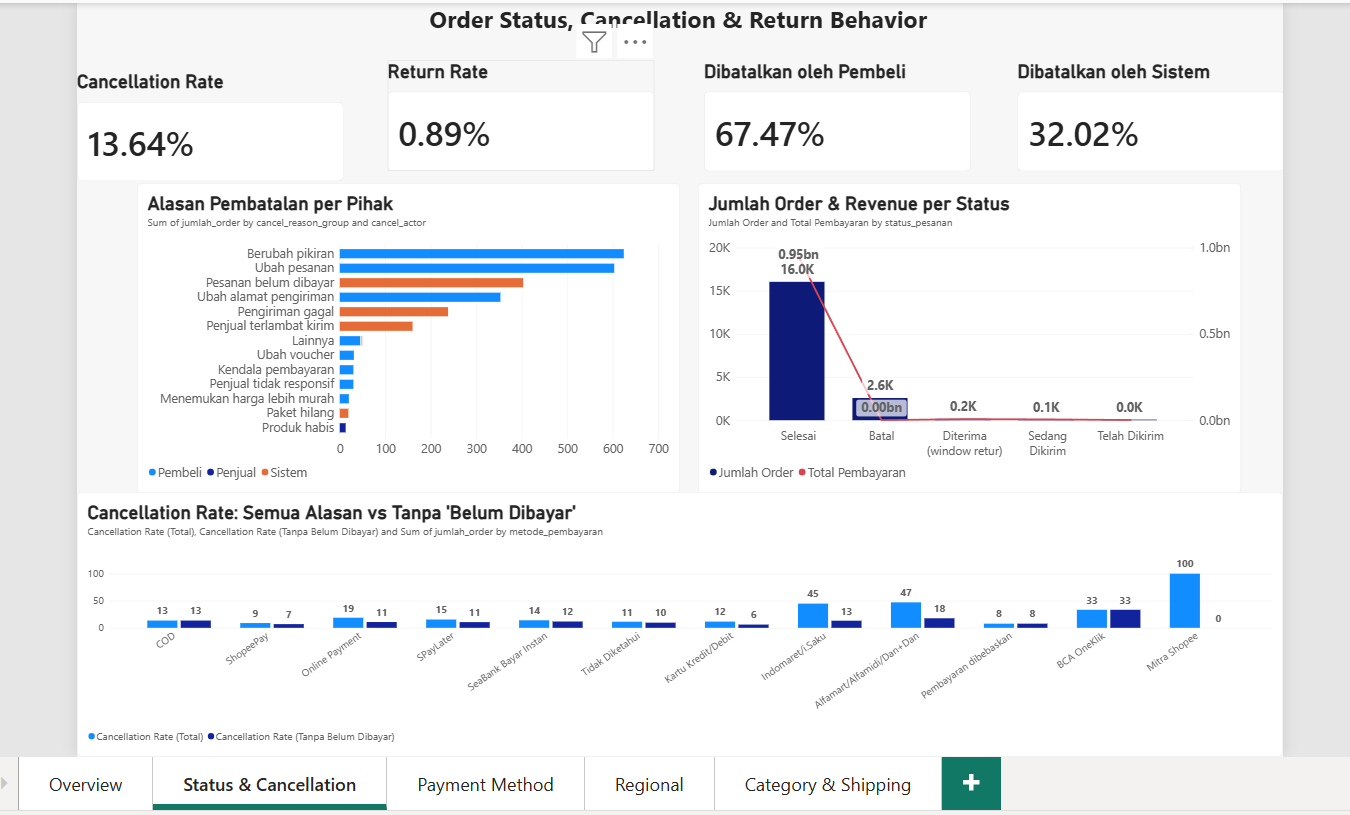

The page's visual inventory and layout, read from the dashboard file:
{"tool":"powerbi","page":{"name":"Status & Cancellation","canvas":[1920,1200],"ordinal":1},"visuals":[{"type":"textbox","box":[560.7,0,832.7,71.6],"z":0},{"type":"cardVisual","title":"Cancellation Rate","fields":{"Data":["mart_overview_kpi.Cancellation Rate %"]},"box":[0,108,424.7,176.6],"z":1},{"type":"cardVisual","title":"Return Rate","fields":{"Data":["mart_overview_kpi.Return Rate %"]},"box":[493.9,90.7,425,177],"z":2},{"type":"cardVisual","title":"Dibatalkan oleh Pembeli","fields":{"Data":["mart_cancellation_reason.Pembeli Cancel %"]},"box":[997.3,90.7,425,177],"z":3},{"type":"cardVisual","title":"Dibatalkan oleh Sistem","fields":{"Data":["mart_cancellation_reason.Sistem Cancel %"]},"box":[1496,90.7,425,177],"z":4},{"type":"barChart","title":"Alasan Pembatalan per Pihak","fields":{"Category":["mart_cancellation_reason.cancel_reason_group"],"Y":["Sum(mart_cancellation_reason.jumlah_order)"],"Series":["mart_cancellation_reason.cancel_actor"]},"box":[0,283.9,864.1,494.9],"z":5},{"type":"lineClusteredColumnComboChart","title":"Jumlah Order & Revenue per Status","fields":{"Category":["mart_order_status.status_pesanan"],"Y":["Sum(mart_order_status.jumlah_order)"],"Y2":["Sum(mart_order_status.total_pembayaran)"]},"box":[864.1,283.9,864.1,494.9],"z":6},{"type":"clusteredColumnChart","title":"Cancellation Rate: Semua Alasan vs Tanpa ''Belum Dibayar''","fields":{"Category":["mart_payment_method.metode_pembayaran"],"Y":["Sum(mart_payment_method.cancellation_rate_pct)","Sum(mart_payment_method.cancellation_rate_tanpa_belum_dibayar_pct)"]},"box":[0,790,1919.3,410.9],"z":7}]}

Visuals, with their boxes on the page's 1920x1200 design canvas (x1, y1, x2, y2). These are canvas units, not pixel positions in the 1350x815 screenshot, which may show the page scaled, cropped or inside an application window:
textbox: 561,0,1393,72
"Cancellation Rate" cardVisual: 0,108,425,285
"Return Rate" cardVisual: 494,91,919,268
"Dibatalkan oleh Pembeli" cardVisual: 997,91,1422,268
"Dibatalkan oleh Sistem" cardVisual: 1496,91,1921,268
"Alasan Pembatalan per Pihak" barChart: 0,284,864,779
"Jumlah Order & Revenue per Status" lineClusteredColumnComboChart: 864,284,1728,779
"Cancellation Rate: Semua Alasan vs Tanpa ''Belum Dibayar''" clusteredColumnChart: 0,790,1919,1201
